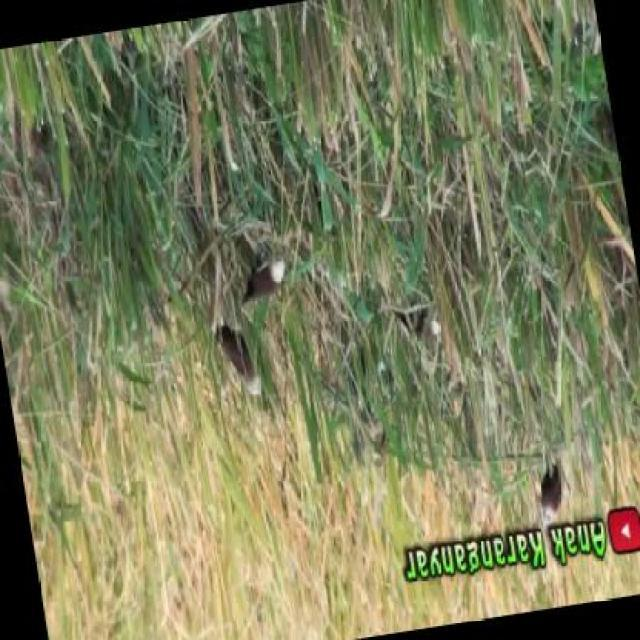Bird: (213, 324, 265, 398), (240, 256, 288, 308), (539, 458, 564, 528), (394, 303, 445, 337)
